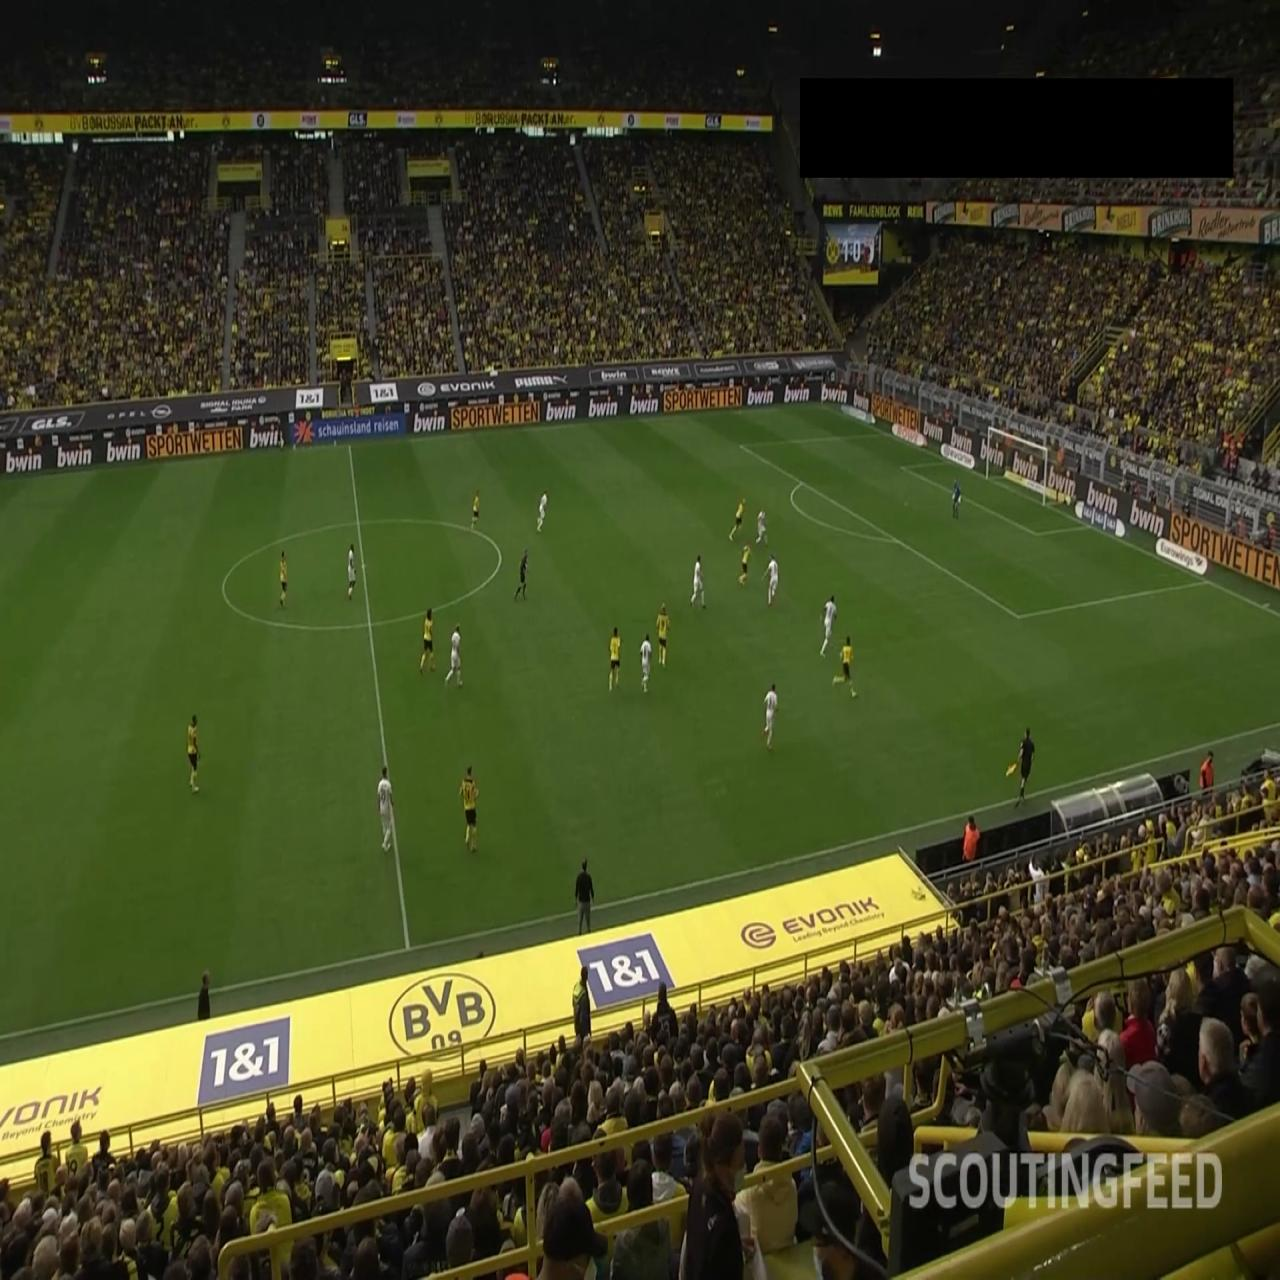goalkeeper: (951, 479, 962, 518)
player: (459, 764, 479, 854), (831, 634, 856, 698), (377, 765, 395, 852), (419, 607, 437, 675), (819, 592, 837, 658), (445, 622, 463, 688), (187, 714, 201, 792), (763, 680, 778, 751), (656, 602, 670, 669), (761, 554, 779, 606), (690, 555, 706, 609), (609, 626, 621, 692), (737, 541, 753, 589), (729, 496, 746, 540), (754, 504, 770, 550), (640, 633, 651, 692), (278, 550, 288, 609), (346, 543, 356, 601), (537, 492, 548, 532), (471, 488, 480, 530)
referee: (1006, 727, 1036, 807), (514, 549, 530, 602), (277, 413, 287, 451)
